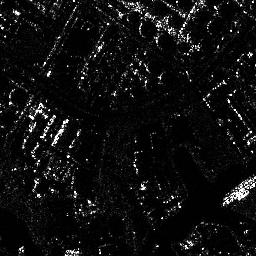ship: (220, 175, 256, 205)
